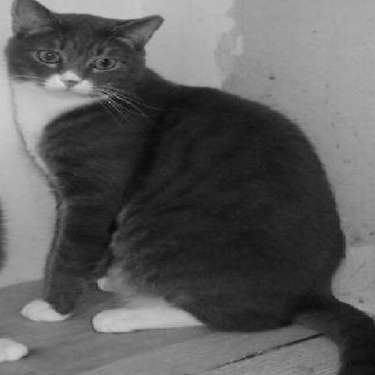cat: (6, 1, 371, 373)
